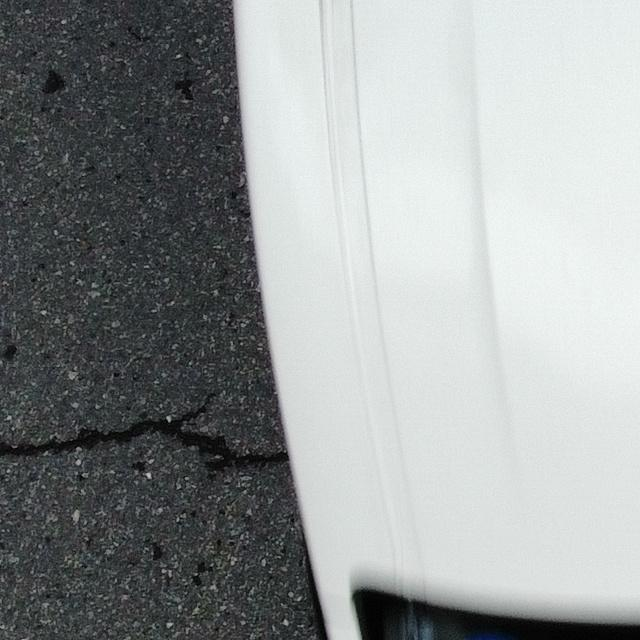TransverseCrack: (1, 393, 290, 469)
